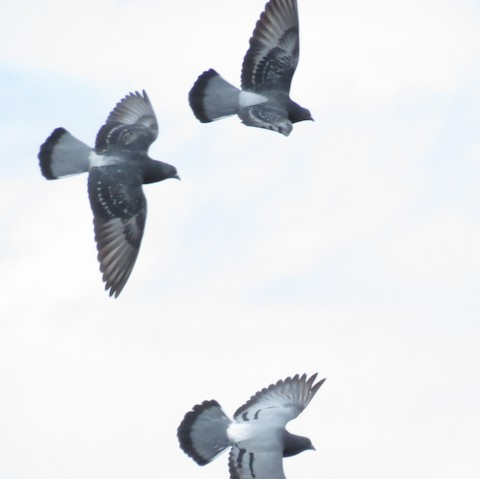pigeon: (24, 86, 192, 304), (182, 6, 321, 140), (174, 361, 321, 473)
